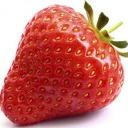strawberry: (2, 2, 128, 128)
